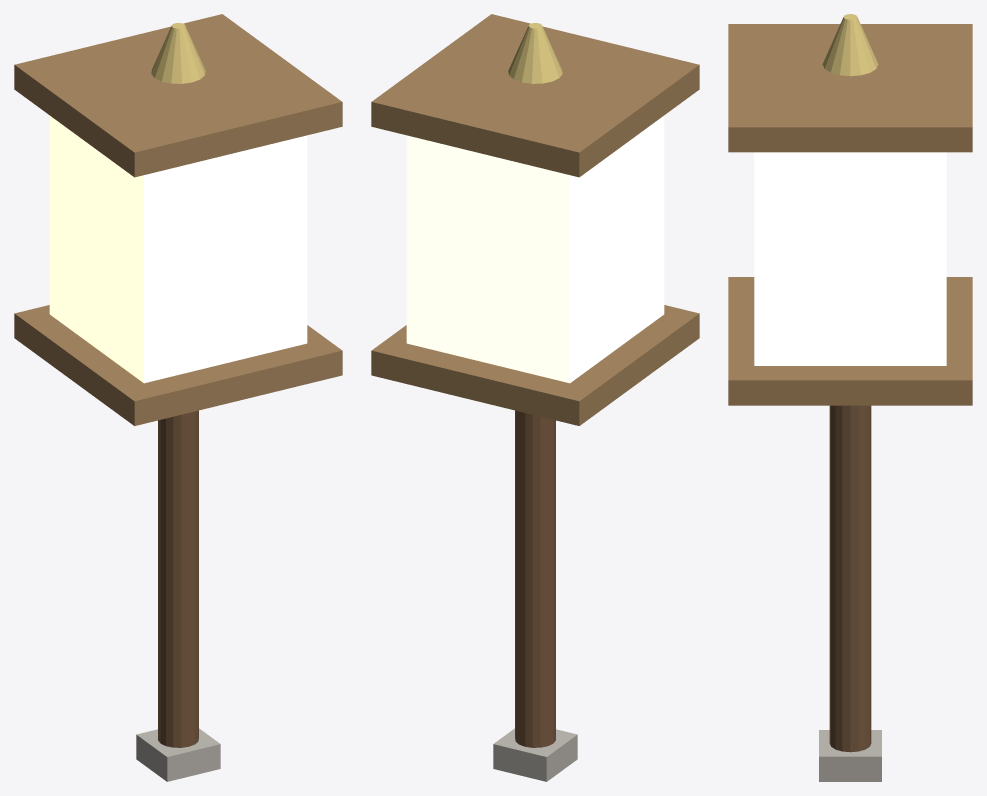
Rendered from lantern.glb.
The picture shows the model from 3 angles, left to right: view 1: azimuth 30°, elevation 25°; view 2: azimuth 150°, elevation 25°; view 3: azimuth 270°, elevation 25°; orthographic projection.
Visible parts, largest first — view 1: lantern; view 2: lantern; view 3: lantern.
Boxes of the visible parts, x1,y1,x2,y2 form: lantern: (14,14,342,781); lantern: (371,14,699,781); lantern: (728,14,972,781).
Size of the model in its own units: 0.7 by 2.38 by 0.7.
